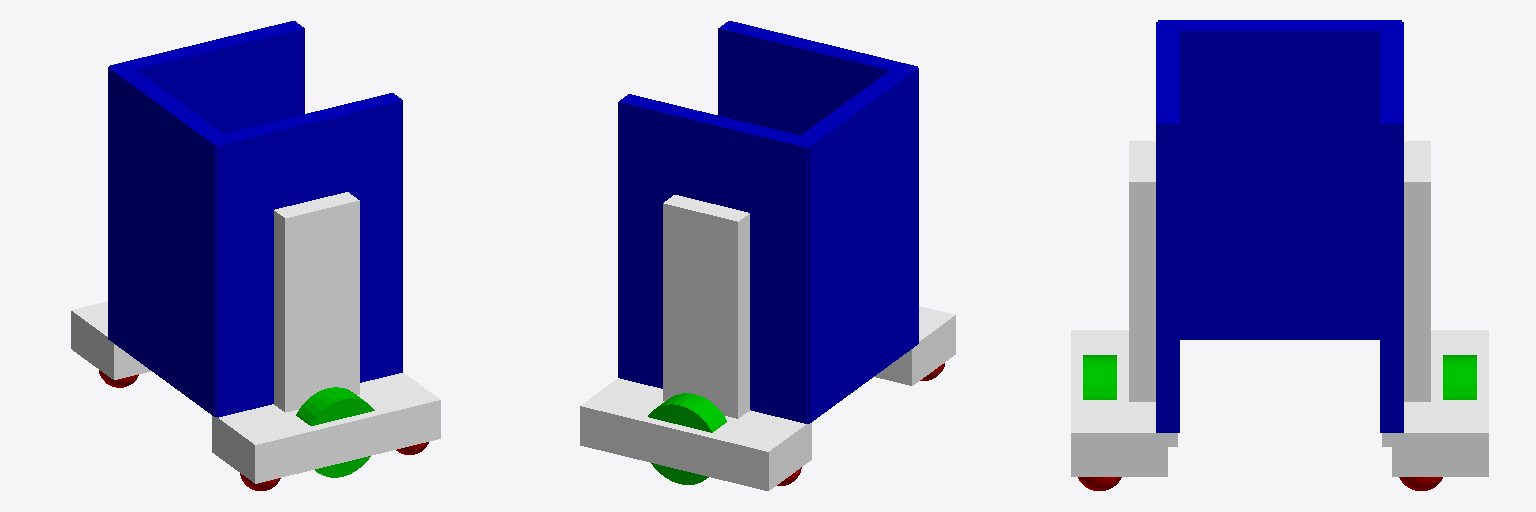
The robot description file, URDF, robot "myRobot":
<?xml version="1.0"?>
<robot name="myRobot">

    <material name="blue">
        <color rgba="0 0 0.8 1"/>
    </material>

    <material name="white">
        <color rgba="1 1 1 1"/>
    </material>

    <material name="green">
        <color rgba="0 0.8 0 1"/>
    </material>

    <material name="red">
        <color rgba="0.8 0 0 1"/>
    </material>



    <link name="base_link">
        <origin rpy="0 0 0" xyz="0 0 0"/>
    </link>


    <link name="back">
        <visual>
            <geometry>
                <box size="0.05 0.5 0.7"/>
            </geometry>
            <origin rpy="0 0 0" xyz="0 0 0"/>
            <material name="blue"/>
        </visual>
        <collision>
            <geometry>
                <box size="0.05 0.5 0.7"/>
            </geometry>
        </collision>
        <inertial>
            <mass value="0.5"/>
            <inertia ixx="0.030833333" ixy="0.0" ixz="0.0" 
                     iyy="0.020520833" iyz="0.0" 
                     izz="0.010520833"/>
        </inertial>
    </link>

    <link name="right">
        <visual>
            <geometry>
                <box size="0.05 0.5 0.7"/>
            </geometry>
            <origin rpy="0 0 1.57075" xyz="0 0 0"/>
            <material name="blue"/>
        </visual>
        <collision>
            <geometry>
                <box size="0.17 0.5 0.85"/>
            </geometry>
            <origin rpy="0 0 1.57075" xyz="0 -0.11 -0.075"/>
        </collision>
        <inertial>
            <mass value="0.5"/>
            <inertia ixx="0.030833333" ixy="0.0" ixz="0.0" iyy="0.020520833" iyz="0.0" izz="0.010520833"/>
        </inertial>
    </link>

    <link name="left">
        <visual>
            <geometry>
                <box size="0.05 0.5 0.7"/>
            </geometry>
            <origin rpy="0 0 1.57075" xyz="0 0 0"/>
            <material name="blue"/>
        </visual>
        <collision>
            <geometry>
                <box size="0.25 0.5 0.85"/>
            </geometry>
            <origin rpy="0 0 1.57075" xyz="0 0.07 -0.075"/>
        </collision>
        <inertial>
            <mass value="0.5"/>
            <inertia ixx="0.030833333" ixy="0.0" ixz="0.0" iyy="0.020520833" iyz="0.0" izz="0.010520833"/>
        </inertial>
    </link>

    
    <link name="left_leg">
        <visual>
            <geometry>
                <box size="0.6 0.1 0.2"/>
            </geometry>
            <origin rpy="0 1.57075 0" xyz="0 0 0"/>
            <material name="white"/>
        </visual>
    </link>


    <link name="left_wheels_holder">
        <visual>
            <geometry>
                <box size="0.1 0.2 0.5"/>
            </geometry>
            <origin rpy="0 1.57075 0" xyz="0 0 0"/>
            <material name="white"/>
        </visual>
    </link>

    <link name="right_leg">
        <visual>
            <geometry>
                <box size="0.6 0.1 0.2"/>
            </geometry>
            <origin rpy="0 1.57075 0" xyz="0 0 0"/>
            <material name="white"/>
        </visual>
    </link>


    <link name="right_wheels_holder">
        <visual>
            <geometry>
                <box size="0.1 0.2 0.5"/>
            </geometry>
            <origin rpy="0 1.57075 0" xyz="0 0 0"/>
            <material name="white"/>
        </visual>
    </link>

    <link name="left_wheel_main">
        <visual>
            <geometry>
                <cylinder length="0.070" radius="0.1"/>
            </geometry>
            <origin rpy="1.57075 0 0" xyz="0 0 0"/>
            <material name="green"/>
        </visual>
    </link>

    <link name="right_wheel_main">
        <visual>
            <geometry>
            <cylinder length="0.070" radius="0.1"/>
            </geometry>
            <origin rpy="1.57075 0 0" xyz="0 0 0"/>
            <material name="green"/>
        </visual>
    </link>



    <link name="caster_right_front">
        <visual>
            <geometry>
                <sphere radius="0.05"/>
            </geometry>
            <origin rpy="1.57075 0 0" xyz="0 0 0"/>
            <material name="red"/>
        </visual>
    </link>


    <link name="caster_right_back">
        <visual>
            <geometry>
                <sphere radius="0.05"/>
            </geometry>
            <origin rpy="1.57075 0 0" xyz="0 0 0"/>
            <material name="red"/>
        </visual>
    </link>

    <link name="caster_left_front">
        <visual>
            <geometry>
                <sphere radius="0.05"/>
            </geometry>
            <origin rpy="1.57075 0 0" xyz="0 0 0"/>
            <material name="red"/>
        </visual>
    </link>

    <link name="caster_left_back">
        <visual>
            <geometry>
                <sphere radius="0.05"/>
            </geometry>
            <origin rpy="1.57075 0 0" xyz="0 0 0"/>
            <material name="red"/>
        </visual>
    </link>



    <joint name="Base_link_to_back" type="fixed">
        <parent link="base_link"/>
        <child link="back"/>
        <origin xyz="-0.23 0 0.5"/>
    </joint>

    <joint name="Base_link_to_right" type="fixed">
        <parent link="base_link"/>
        <child link="right"/>
        <origin xyz="0 -0.23 0.5"/>
    </joint>

    <joint name="Base_link_to_left" type="fixed">
        <parent link="base_link"/>
        <child link="left"/>
        <origin xyz="0 0.23 0.5"/>
    </joint>

    <joint name="Left_to_left_leg" type="prismatic">
        <parent link="left"/>
        <child link="left_leg"/>
        <limit effort="1000.0" lower="-0.3" upper="0" velocity="0.5"/>
        <axis xyz="0 0 1" />
        <origin xyz="0 0.03 -0.15"/>
    </joint>

    <joint name="Left_leg_to_left_wheels_holder" type="fixed">
        <parent link="left_leg"/>
        <child link="left_wheels_holder"/>
        <origin xyz="0 0.07 -0.25"/>
    </joint>

    <joint name="Left_wheels_holder_to_left_wheel_main" type="continuous">
        <parent link="left_wheels_holder"/>
        <child link="left_wheel_main"/>
        <axis xyz="0 1 0"/>
        <origin xyz="0 0.04 0"/>
    </joint>

    <joint name="Left_leg_holder_to_caster_front" type="fixed">
        <parent link="left_wheels_holder"/>
        <child link="caster_left_front"/>
        <origin xyz="0.2 -0.04 -0.05"/>
    </joint>

    <joint name="Left_leg_holder_to_caster_back" type="fixed">
        <parent link="left_wheels_holder"/>
        <child link="caster_left_back"/>
        <origin xyz="-0.2 -0.04 -0.05"/>
    </joint>




    <joint name="Right_to_right_leg" type="prismatic">
        <parent link="right"/>
        <child link="right_leg"/>
        <limit effort="1000.0" lower="-0.3" upper="0" velocity="0.5"/>
        <axis xyz="0 0 1" />
        <origin xyz="0 -0.03 -0.15"/>
    </joint>

    <joint name="Right_leg_to_right_leg_holder" type="fixed">
        <parent link="right_leg"/>
        <child link="right_wheels_holder"/>
        <origin xyz="0 -0.07 -0.25"/>
    </joint>

    <joint name="Right_wheels_holder_to_right_wheel_main" type="continuous">
        <parent link="right_wheels_holder"/>
        <child link="right_wheel_main"/>
        <axis xyz="0 1 0"/>
        <origin xyz="0 -0.04 0"/>
    </joint>

    <joint name="Right_leg_holder_to_caster_front" type="fixed">
        <parent link="right_wheels_holder"/>
        <child link="caster_right_front"/>
        <origin xyz="0.2 -0.04 -0.05"/>
    </joint>

    <joint name="Right_leg_holder_to_caster_back" type="fixed">
        <parent link="right_wheels_holder"/>
        <child link="caster_right_back"/>
        <origin xyz="-0.2 -0.04 -0.05"/>
    </joint>


</robot>

--- Facts derived from the render (not from the file) ---
Views: 3 orthographic renders of the robot side by side, from view 1: azimuth 30°, elevation 25°; view 2: azimuth 150°, elevation 25°; view 3: azimuth 270°, elevation 25°.
Robot: myRobot — 14 links, 13 joints (2 continuous, 2 prismatic, 9 fixed); root link base_link; default pose: all joints at 0.
Visible links, largest first — view 1: right, back, right_leg, right_wheels_holder, left, left_wheels_holder, right_wheel_main; view 2: left, back, left_leg, left_wheels_holder, right, right_wheels_holder, left_wheel_main; view 3: back, right, left, left_wheels_holder, right_wheels_holder, left_leg, right_leg, left_wheel_main, right_wheel_main.
Link boxes in pixels (bbox=[...]): right: bbox=[208, 93, 402, 417]; back: bbox=[108, 63, 232, 416]; right_leg: bbox=[274, 192, 359, 412]; right_wheels_holder: bbox=[212, 372, 440, 483]; left: bbox=[109, 21, 304, 133]; left_wheels_holder: bbox=[71, 301, 150, 379]; right_wheel_main: bbox=[296, 387, 374, 477]; left: bbox=[618, 94, 813, 423]; back: bbox=[792, 63, 918, 423]; left_leg: bbox=[663, 195, 749, 418]; left_wheels_holder: bbox=[580, 378, 811, 490]; right: bbox=[718, 21, 917, 135]; right_wheels_holder: bbox=[874, 306, 955, 385]; left_wheel_main: bbox=[648, 393, 726, 484]; back: bbox=[1158, 20, 1401, 339]; right: bbox=[1156, 22, 1179, 432]; left: bbox=[1380, 22, 1403, 432]; left_wheels_holder: bbox=[1392, 330, 1488, 476]; right_wheels_holder: bbox=[1071, 330, 1167, 476]; left_leg: bbox=[1382, 141, 1430, 446]; right_leg: bbox=[1129, 141, 1177, 446]; left_wheel_main: bbox=[1443, 355, 1476, 399]; right_wheel_main: bbox=[1083, 355, 1116, 399].
Size in the robot's own frame: 0.505 by 0.86 by 0.85 metres.
Geometry: primitives only (box / cylinder / sphere), no mesh files.